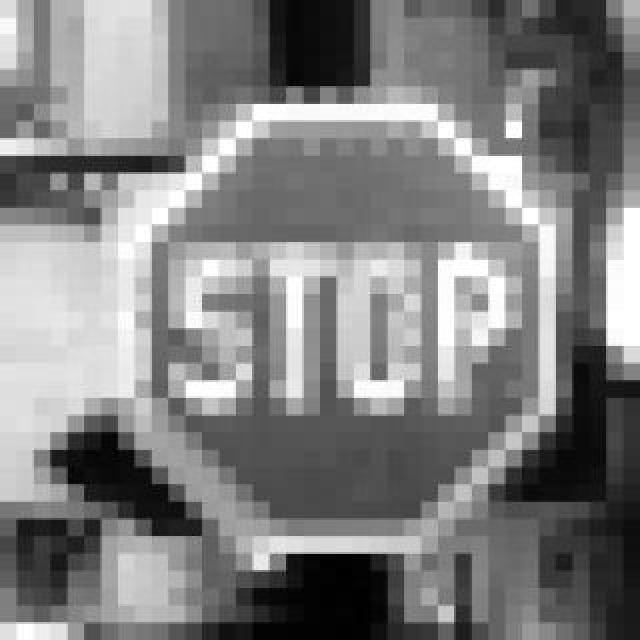stop: (84, 68, 540, 536)
